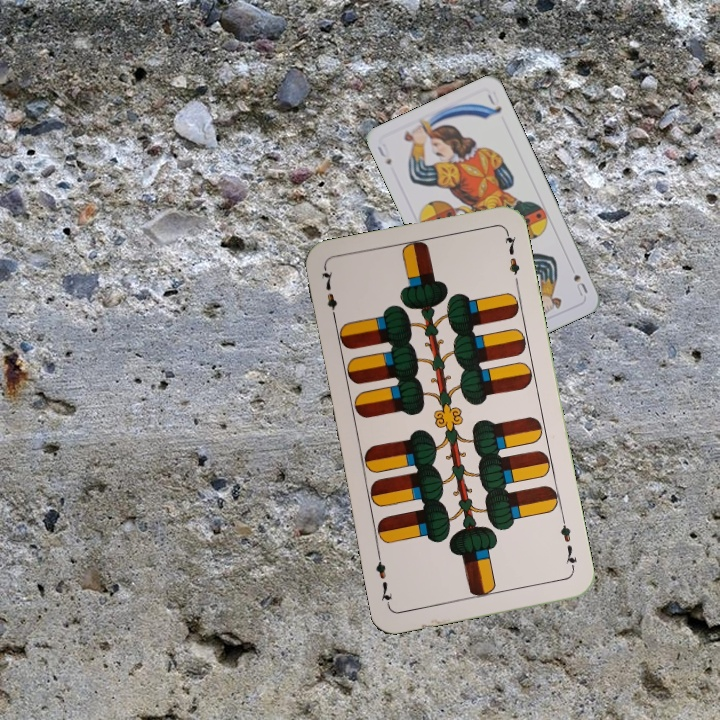E7: (556, 514, 580, 573), (317, 265, 340, 324)
SU: (569, 270, 590, 299), (373, 139, 394, 168)
